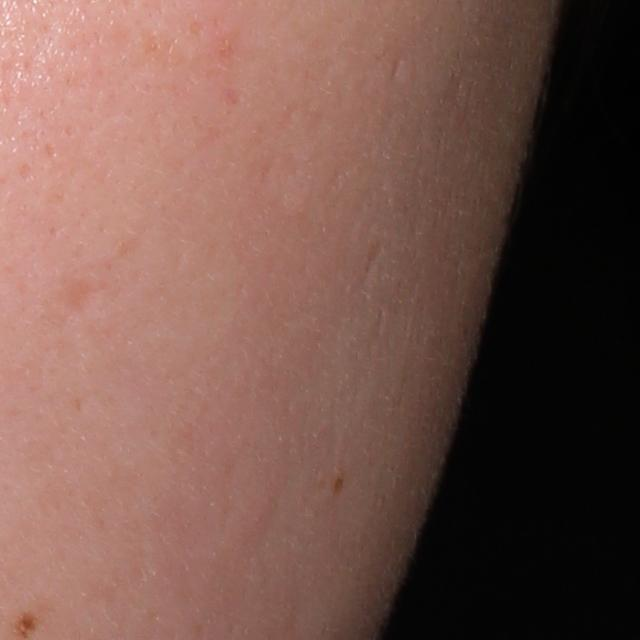atrophic_scar: (59, 269, 111, 319), (385, 50, 412, 92)
nevus: (331, 474, 349, 495)
